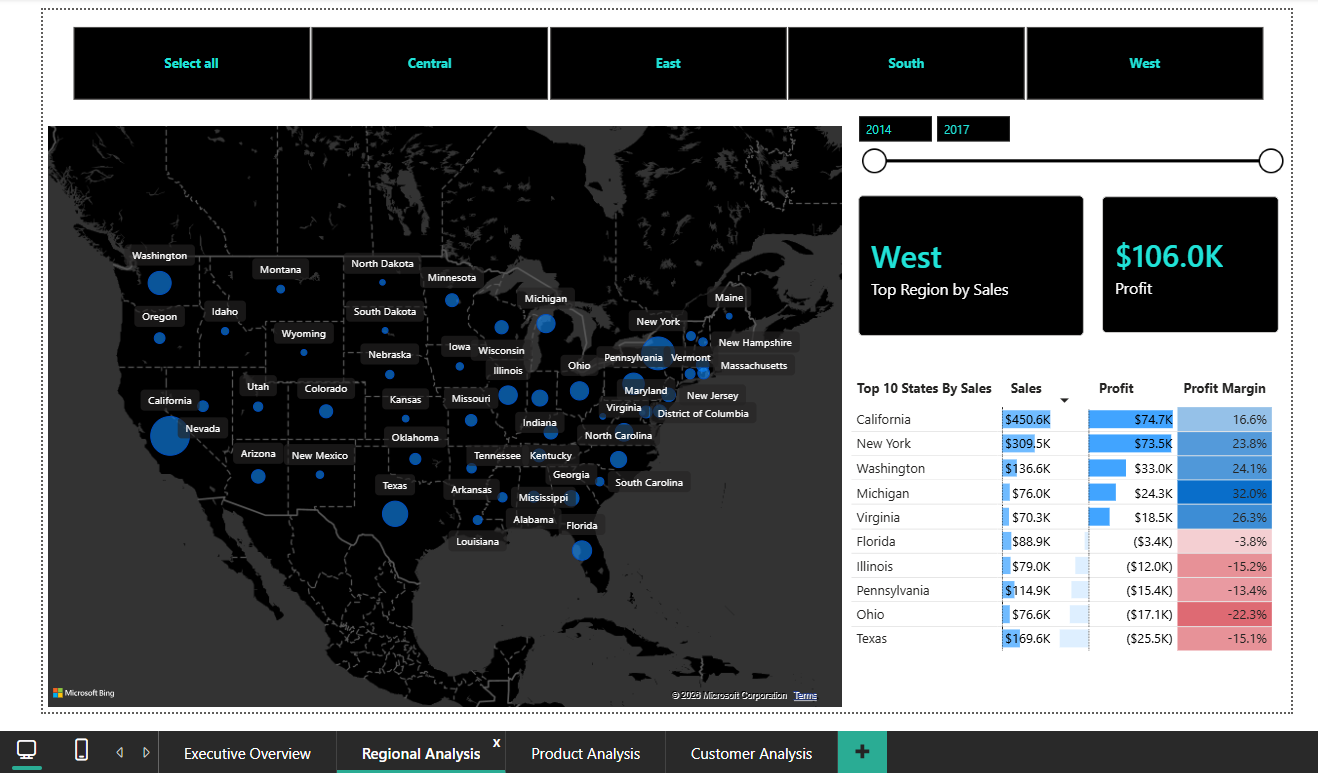

Layout of this report page (visuals, bound fields, positions):
{"tool":"powerbi","page":{"name":"Map","canvas":[1280,720],"ordinal":1},"visuals":[{"type":"map","fields":{"Category":["Orders.state"],"Size":["MeasuresTable.Total Sales"]},"box":[0,114,823.8,606],"z":0},{"type":"slicer","fields":{"Values":["Orders.region"]},"box":[5,10,1270.1,88.3],"z":1000},{"type":"pivotTable","fields":{"Rows":["Orders.state"],"Values":["MeasuresTable.Total Sales","MeasuresTable.Total Profit","MeasuresTable.Profit Margin"]},"box":[823.9,370.1,456.7,298.5],"z":2000},{"type":"slicer","fields":{"Values":["Date.Year"]},"box":[823.8,98.8,456.2,78.8],"z":3000},{"type":"cardVisual","fields":{"Data":["MeasuresTable.Top Region by Sales"]},"box":[823.9,177.6,255.2,168.7],"z":4000},{"type":"cardVisual","fields":{"Data":["MeasuresTable.Total Sales (region)"]},"box":[1074.6,177.6,206,165.7],"z":5000}]}

Visuals, with their boxes on the page's 1280x720 design canvas (x1, y1, x2, y2). These are canvas units, not pixel positions in the 1318x773 screenshot, which may show the page scaled, cropped or inside an application window:
map - Orders.state x MeasuresTable.Total Sales: <region>0, 114, 824, 720</region>
slicer - Orders.region: <region>5, 10, 1275, 98</region>
pivotTable - Orders.state x MeasuresTable.Total Sales: <region>824, 370, 1281, 669</region>
slicer - Date.Year: <region>824, 99, 1280, 178</region>
cardVisual - MeasuresTable.Top Region by Sales: <region>824, 178, 1079, 346</region>
cardVisual - MeasuresTable.Total Sales (region): <region>1075, 178, 1281, 343</region>
